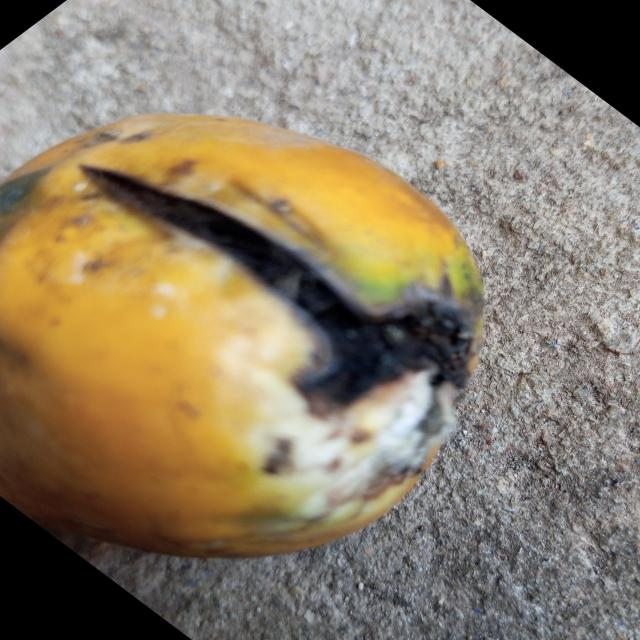damaged: (0, 115, 484, 557)
